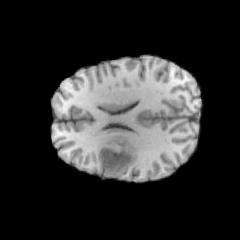glioma: (96, 136, 137, 177)
